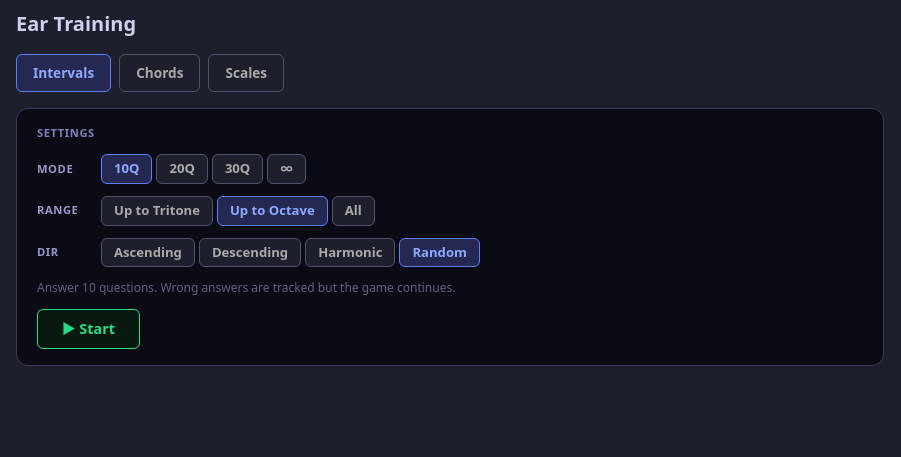
Test: EarTrainingPage – playing phase › goes to result screen when Stop is clicked
Step 1. Click the button "▶ Start" → (88, 329), box [37,309,140,349]
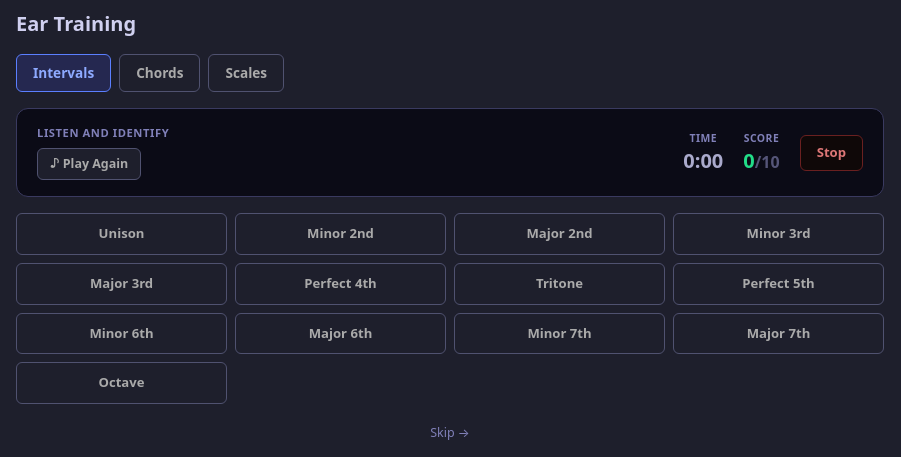
Step 2. Click the button "Stop" → (831, 153), box [800,135,863,171]
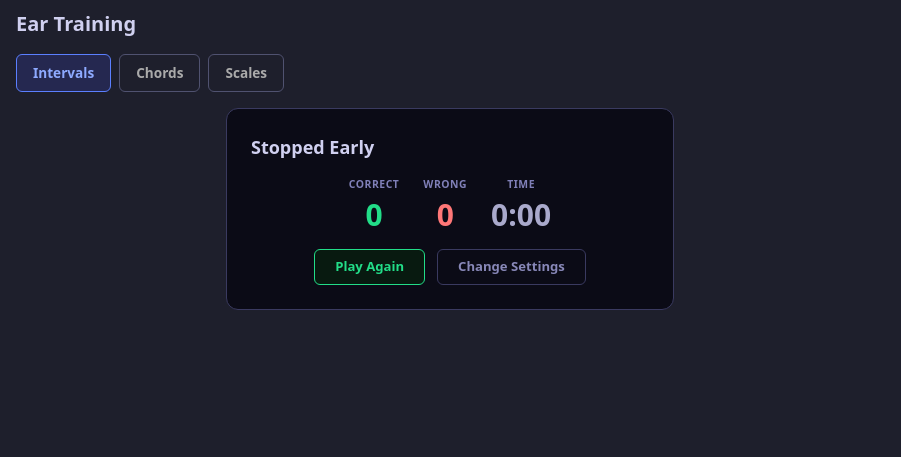
Check: the text "Stopped Early" is shown, box [251,135,374,159]
